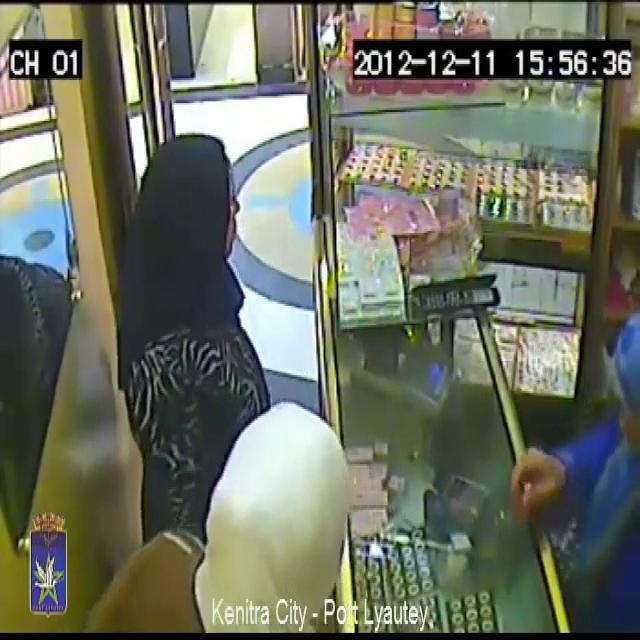normal: (112, 412, 408, 640), (119, 119, 279, 492), (479, 283, 640, 640)
